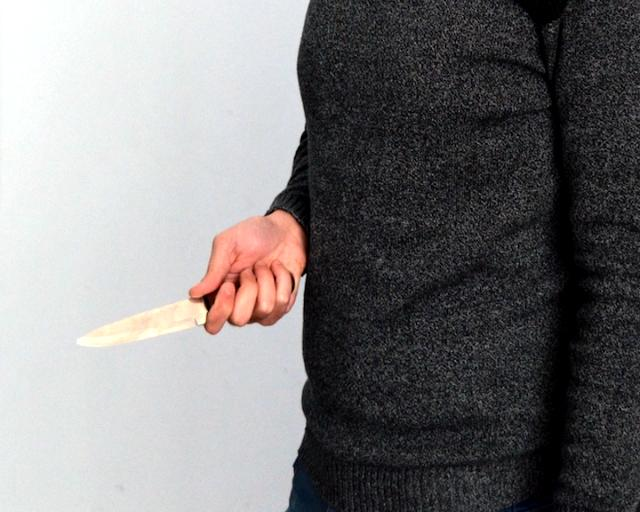pocket-knife: (72, 278, 308, 376)
